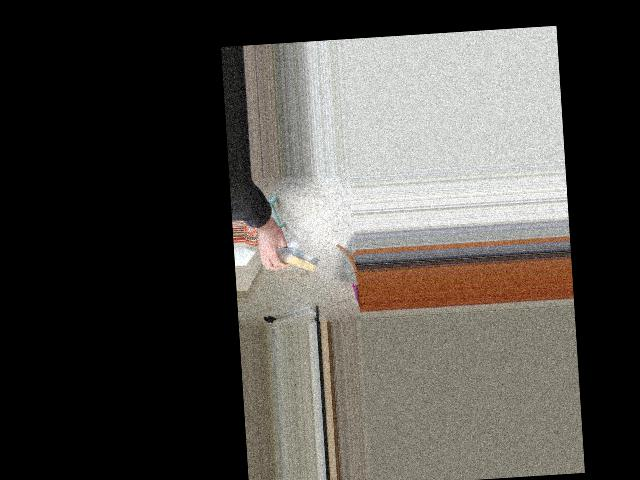cheese: (267, 240, 323, 278)
